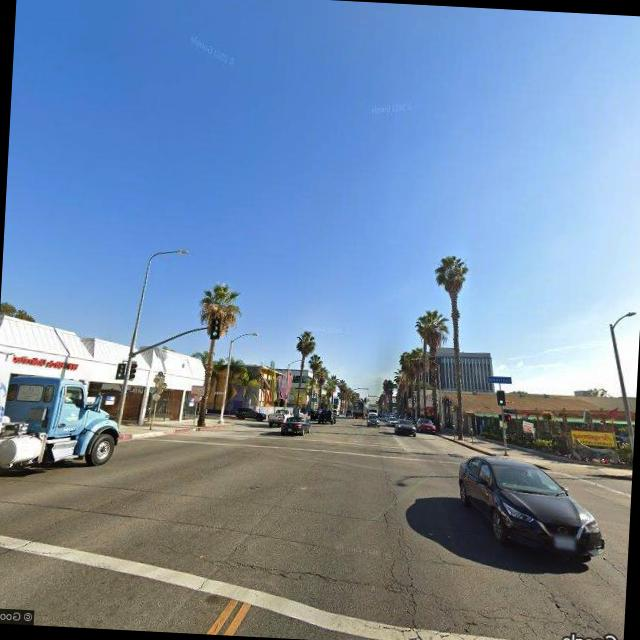crack: (400, 551, 611, 640)
